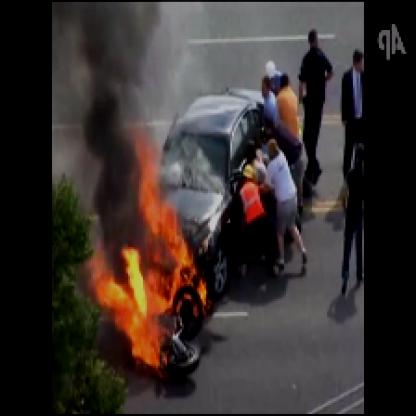Fire: (82, 136, 215, 375)
Smoke: (56, 2, 146, 241)
